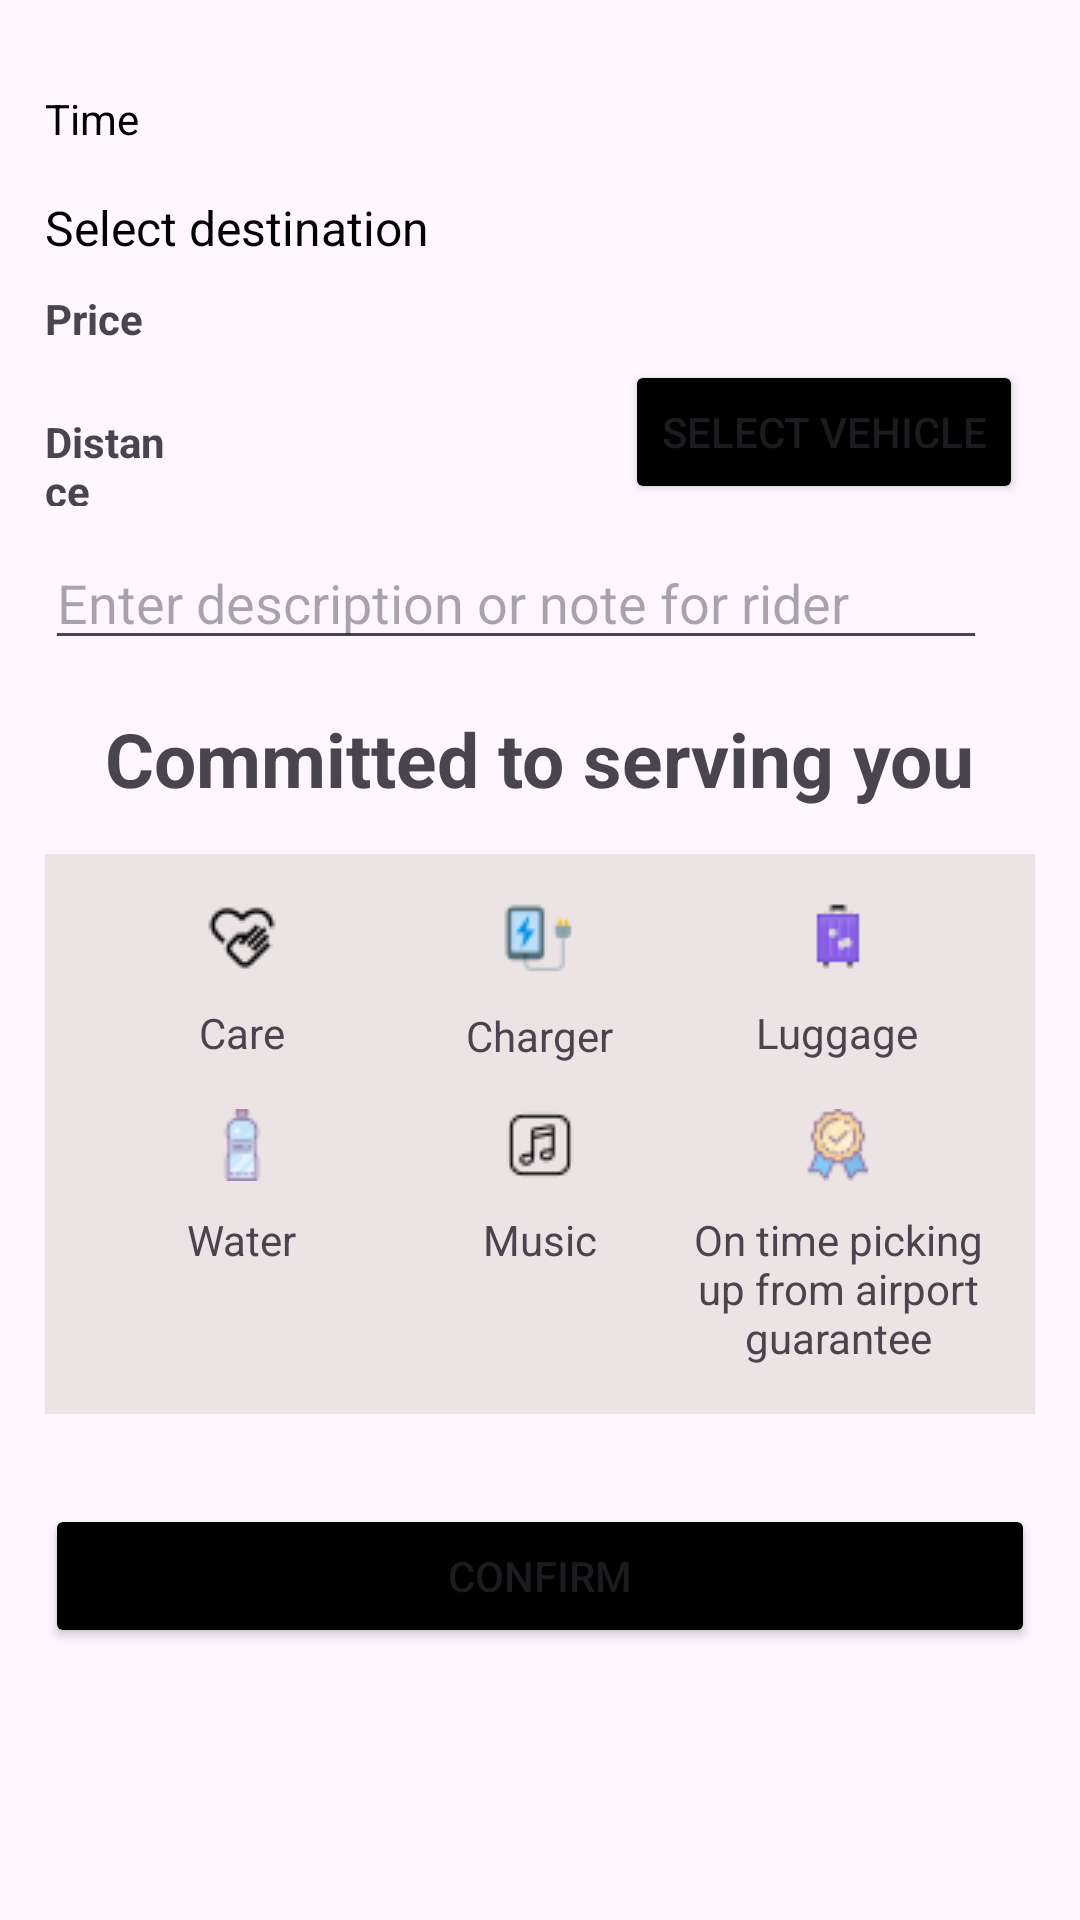

Where to tap for icons on this 1080px×1920px app screen, as (x=x, y=y):
charging: (x=538, y=938)
